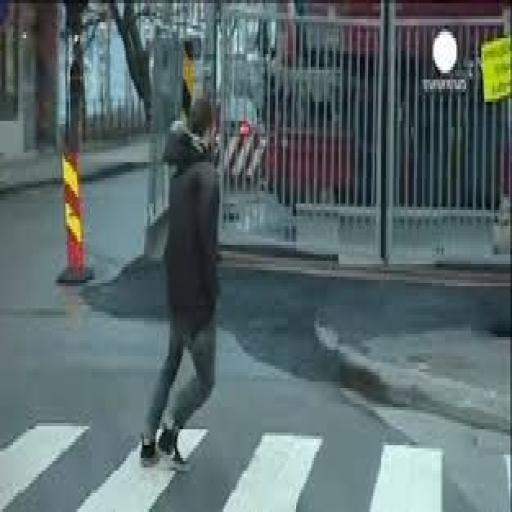running: (138, 92, 224, 471)
